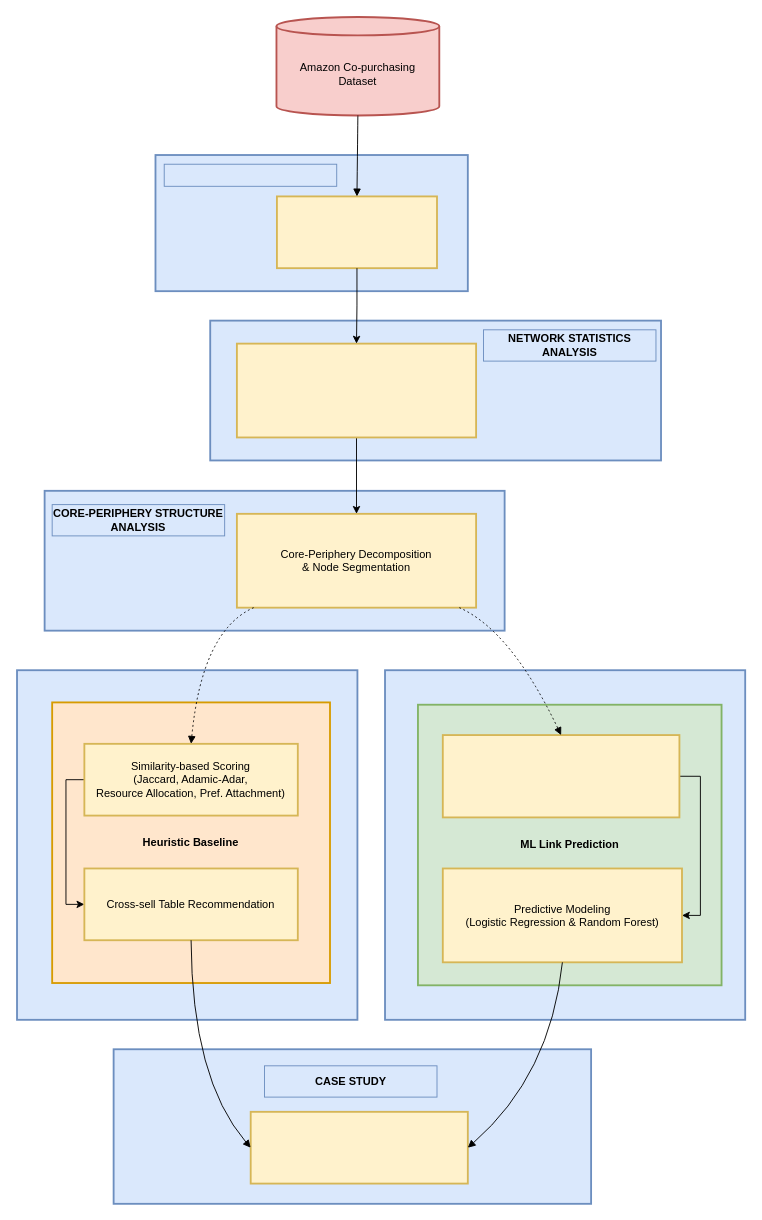
Some shapes in this 762 by 1220 pixel diagram are drawn without their labels. Each missing label, with the centre of its shape:
"Comparative Assessment (Metrics & Case Studies)" goes at [358,1147].
"Data Filtering & Graph Cleaning" goes at [356,232].
"DATA PREPROCESSING" goes at [250,174].
"Feature Engineering (Topological & Distances)" goes at [560,776].
"Topology & Connectivity & Metrics" goes at [356,390].
